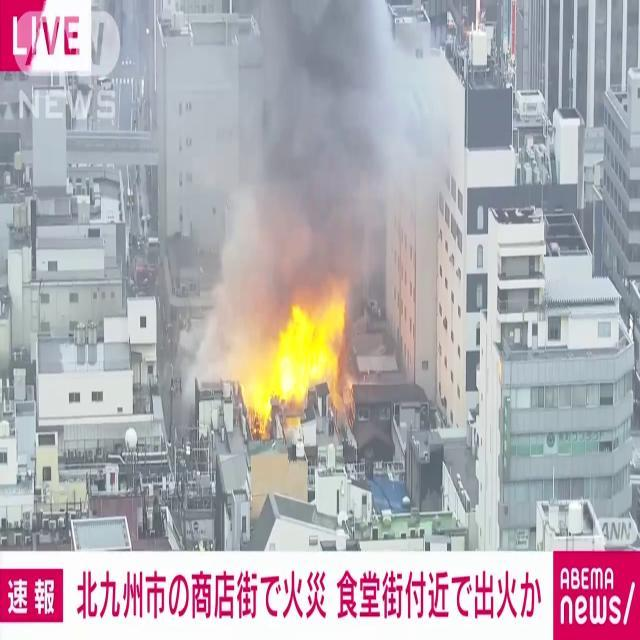Fire: (238, 288, 357, 426)
Smoke: (196, 0, 438, 306)
